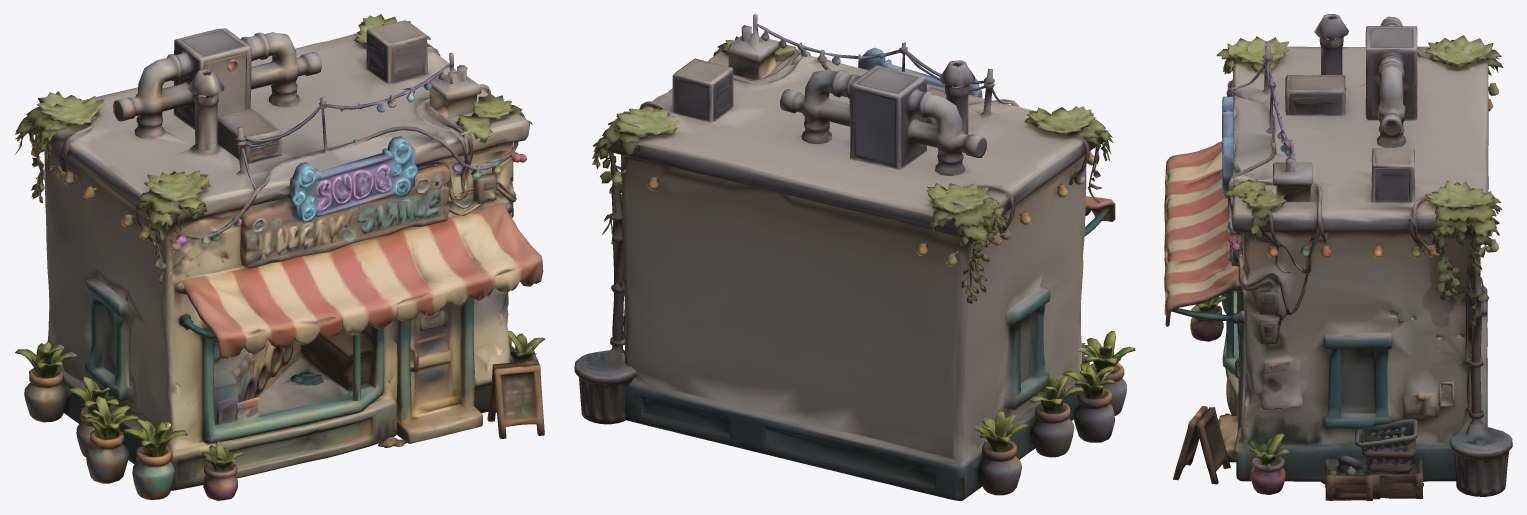
File: store_laundromat.glb
3 views of the same model, side by side, from view 1: azimuth 30°, elevation 25°; view 2: azimuth 150°, elevation 25°; view 3: azimuth 270°, elevation 25° (orthographic). The views are drawn at different scales.
Parts seen in each view (by area): view 1: tripo_part_0, tripo_part_3, tripo_part_4, tripo_part_16, tripo_part_13, tripo_part_10, tripo_part_12, tripo_part_20, tripo_part_11, tripo_part_22, tripo_part_14, tripo_part_2 (+7 smaller); view 2: tripo_part_0, tripo_part_4, tripo_part_10, tripo_part_11, tripo_part_1, tripo_part_6, tripo_part_14, tripo_part_12, tripo_part_15, tripo_part_17, tripo_part_20, tripo_part_2 (+2 smaller); view 3: tripo_part_0, tripo_part_3, tripo_part_1, tripo_part_4, tripo_part_10, tripo_part_6, tripo_part_5, tripo_part_7, tripo_part_21, tripo_part_11, tripo_part_20, tripo_part_18 (+10 smaller).
Boxes of the visible parts, bbox=[...] form: tripo_part_0: bbox=[44, 20, 529, 490]; tripo_part_3: bbox=[179, 165, 543, 358]; tripo_part_4: bbox=[113, 28, 321, 144]; tripo_part_16: bbox=[388, 297, 480, 429]; tripo_part_13: bbox=[276, 136, 417, 221]; tripo_part_10: bbox=[235, 52, 532, 209]; tripo_part_12: bbox=[135, 170, 210, 283]; tripo_part_20: bbox=[171, 69, 235, 181]; tripo_part_11: bbox=[14, 91, 105, 202]; tripo_part_22: bbox=[494, 364, 544, 438]; tripo_part_14: bbox=[15, 341, 76, 422]; tripo_part_2: bbox=[123, 418, 187, 499]; tripo_part_0: bbox=[607, 51, 1101, 500]; tripo_part_4: bbox=[780, 65, 986, 175]; tripo_part_10: bbox=[713, 14, 1019, 118]; tripo_part_11: bbox=[926, 183, 1007, 303]; tripo_part_1: bbox=[592, 105, 693, 286]; tripo_part_6: bbox=[574, 345, 636, 424]; tripo_part_14: bbox=[968, 410, 1028, 495]; tripo_part_12: bbox=[1024, 106, 1113, 203]; tripo_part_15: bbox=[1029, 376, 1083, 457]; tripo_part_17: bbox=[1063, 363, 1115, 442]; tripo_part_20: bbox=[939, 60, 1020, 150]; tripo_part_2: bbox=[1078, 331, 1135, 415]; tripo_part_0: bbox=[1218, 46, 1488, 484]; tripo_part_3: bbox=[1164, 141, 1244, 326]; tripo_part_1: bbox=[1425, 180, 1502, 362]; tripo_part_4: bbox=[1348, 16, 1417, 147]; tripo_part_10: bbox=[1222, 45, 1312, 273]; tripo_part_6: bbox=[1449, 417, 1512, 496]; tripo_part_5: bbox=[1324, 455, 1426, 500]; tripo_part_7: bbox=[1355, 418, 1417, 473]; tripo_part_21: bbox=[1285, 75, 1345, 115]; tripo_part_11: bbox=[1424, 35, 1503, 75]; tripo_part_20: bbox=[1272, 14, 1348, 96]; tripo_part_18: bbox=[1247, 437, 1289, 494].
Size of the model in its own units: 0.9641 by 0.7489 by 0.6857.
1 material, 1 textured.
